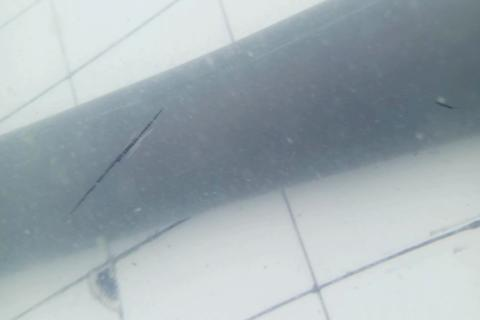keretakan: (71, 109, 163, 213)
